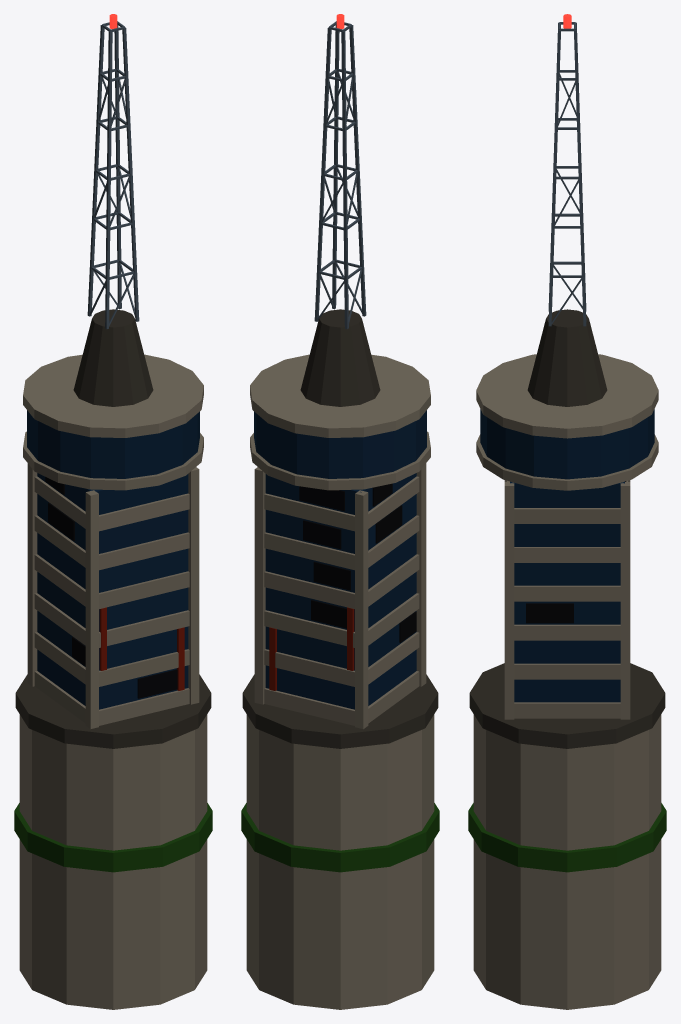
File: tb_tower_spire.glb
3 renders of one model, left to right at view 1: azimuth 30°, elevation 25°; view 2: azimuth 150°, elevation 25°; view 3: azimuth 270°, elevation 25°, orthographic.
Visible parts, largest first — view 1: tower_spire_body; view 2: tower_spire_body; view 3: tower_spire_body.
Boxes of the visible parts, box(x1,y1,x2,y2) form: tower_spire_body: box(14, 14, 212, 1009); tower_spire_body: box(241, 14, 439, 1009); tower_spire_body: box(468, 14, 666, 1009).
Size of the model in its own units: 14.8 by 78.5 by 14.8.
